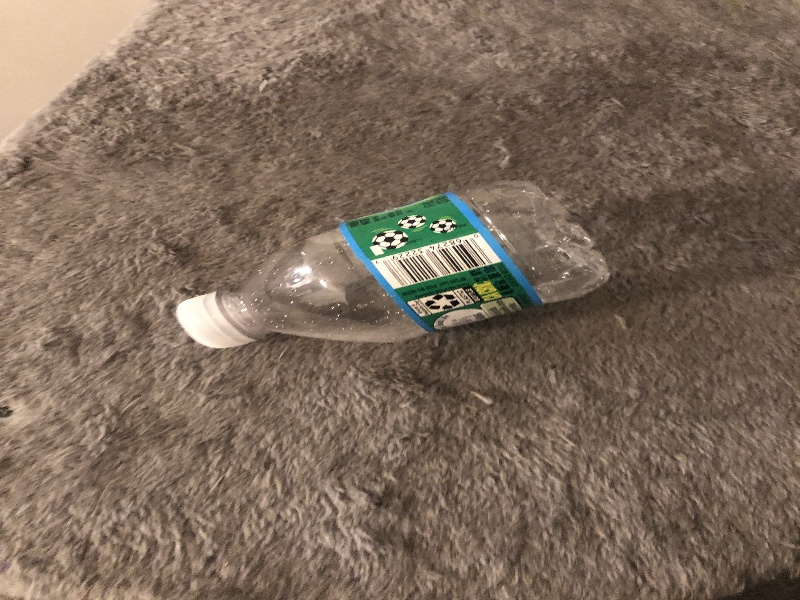plastic: (171, 176, 613, 353)
